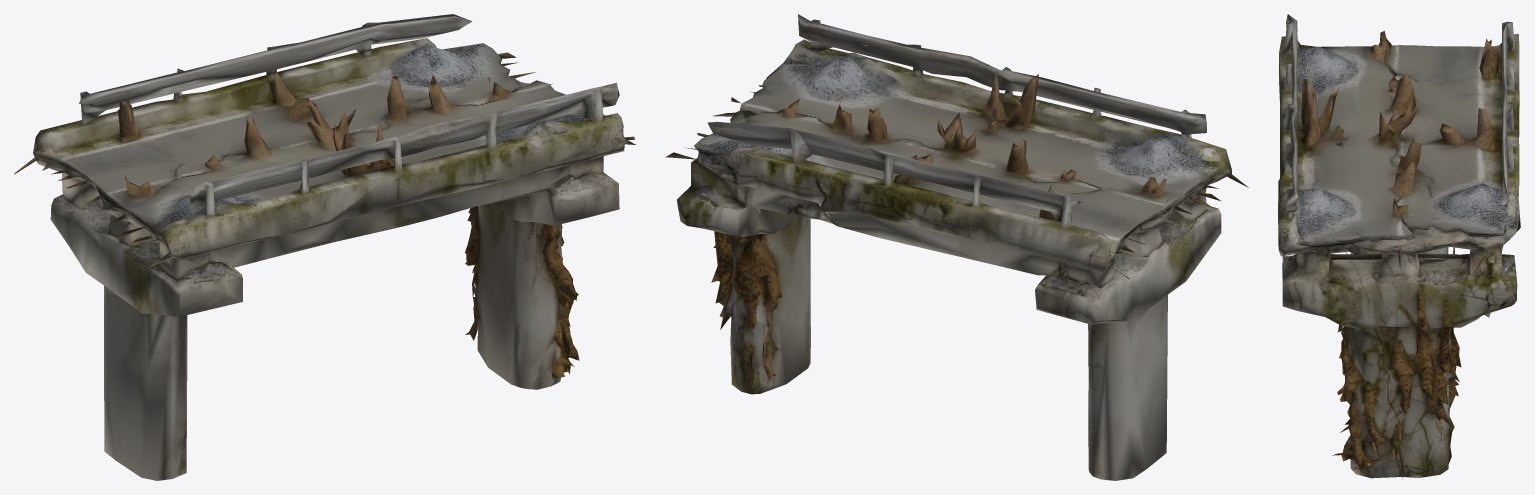
The model's file is ruin-overpass.glb.
The picture shows the model from 3 angles, left to right: view 1: azimuth 30°, elevation 25°; view 2: azimuth 150°, elevation 25°; view 3: azimuth 270°, elevation 25°; orthographic projection. The views are drawn at different scales.
Visible parts, largest first — view 1: tripo_node_3351405e-1568-455d-af0e-fd1c99206161; view 2: tripo_node_3351405e-1568-455d-af0e-fd1c99206161; view 3: tripo_node_3351405e-1568-455d-af0e-fd1c99206161.
Part boxes in pixels (left/top/right/bottom): tripo_node_3351405e-1568-455d-af0e-fd1c99206161: left=14, top=14, right=635, bottom=480; tripo_node_3351405e-1568-455d-af0e-fd1c99206161: left=665, top=14, right=1248, bottom=480; tripo_node_3351405e-1568-455d-af0e-fd1c99206161: left=1278, top=14, right=1520, bottom=479.
Size of the model in its own units: 0.979 by 0.6136 by 0.4619.
1 material, 1 textured.
